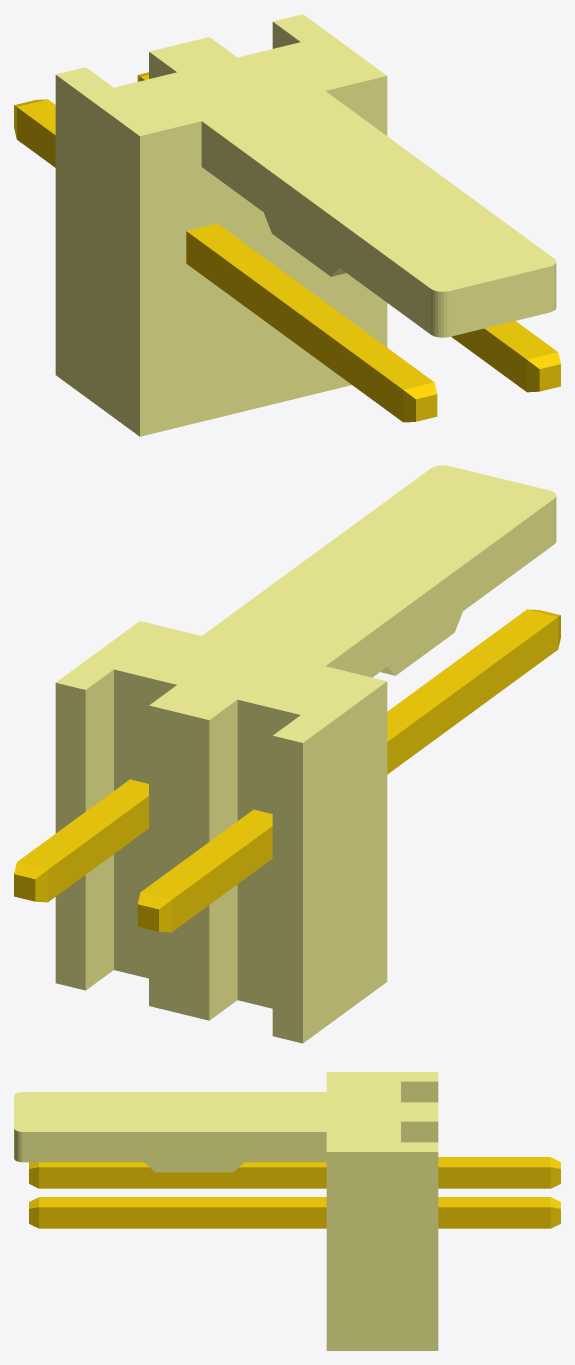
File: DS1070-2 (WF-2 CONNFLY).obj
The picture shows the model from 3 angles, top to bottom: view 1: azimuth 30°, elevation 25°; view 2: azimuth 150°, elevation 25°; view 3: azimuth 270°, elevation 25°; orthographic projection. The views are drawn at different scales.
Visible parts, largest first — view 1: DS1070-2_(WF-2_CONNFLY); view 2: DS1070-2_(WF-2_CONNFLY); view 3: DS1070-2_(WF-2_CONNFLY).
Part boxes in pixels (left/top/right/bottom): DS1070-2_(WF-2_CONNFLY): left=14, top=14, right=560, bottom=436; DS1070-2_(WF-2_CONNFLY): left=14, top=465, right=560, bottom=1043; DS1070-2_(WF-2_CONNFLY): left=14, top=1072, right=560, bottom=1350.
Size of the model in its own units: 0.00731 by 0.00849 by 0.0212.
